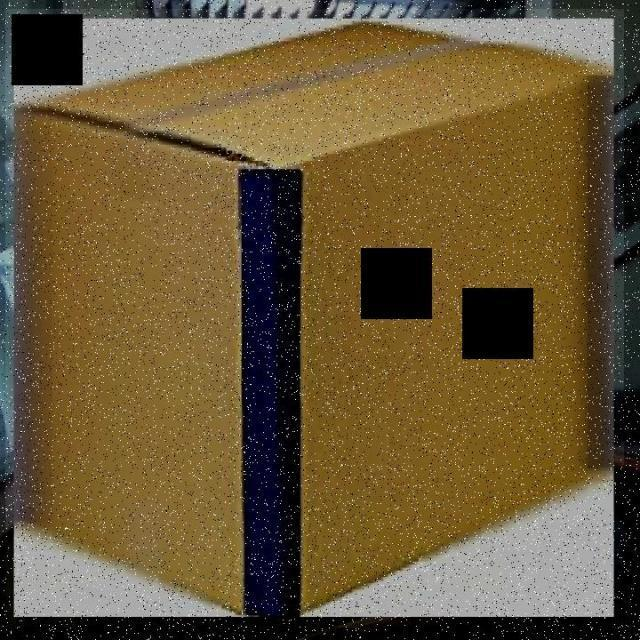box: (5, 9, 624, 628)
